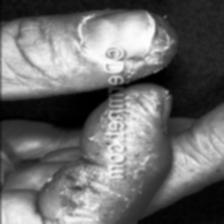Non-Cancerous Skin Condition: (0, 140, 100, 224), (126, 88, 166, 206), (122, 10, 166, 64)
